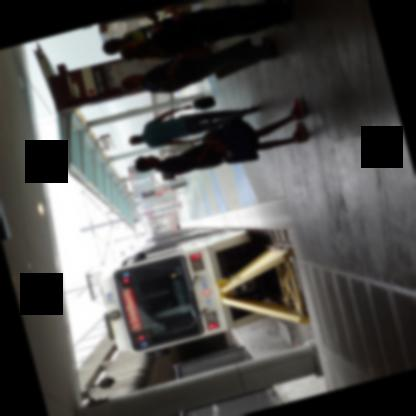backpack: (144, 66, 201, 92)
handbag: (213, 114, 259, 161), (212, 59, 260, 79), (188, 92, 216, 110), (199, 125, 222, 140)
suitcase: (207, 35, 262, 78), (218, 115, 259, 162), (192, 93, 216, 109)
